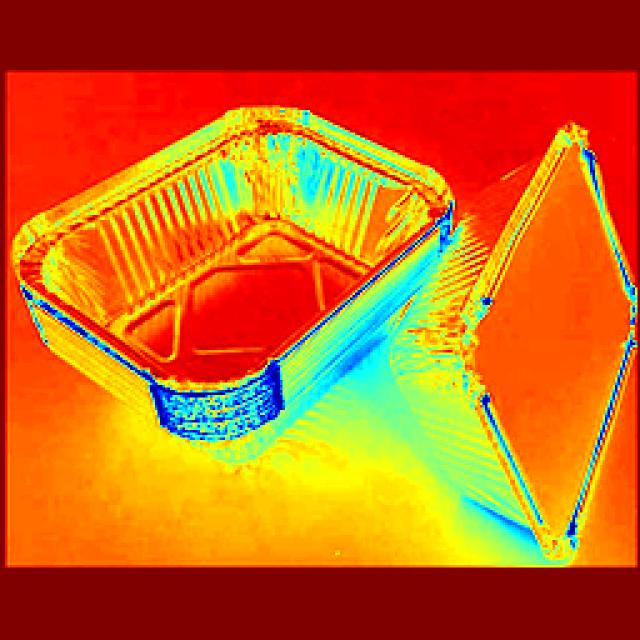Aluminium Food Cans: (12, 115, 440, 458), (410, 125, 640, 533)
